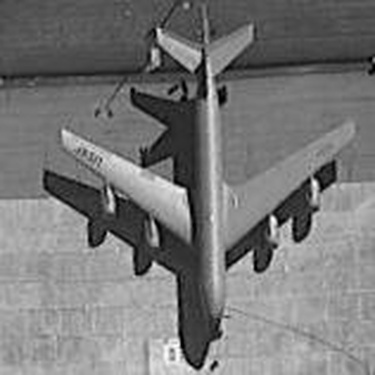airplane: (28, 10, 372, 357)
